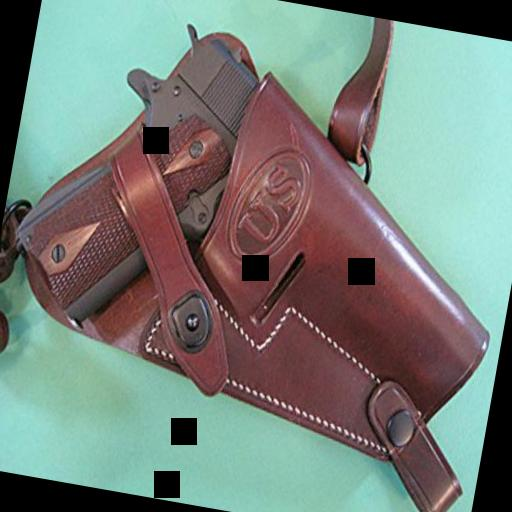Handgun: (0, 0, 512, 471)
